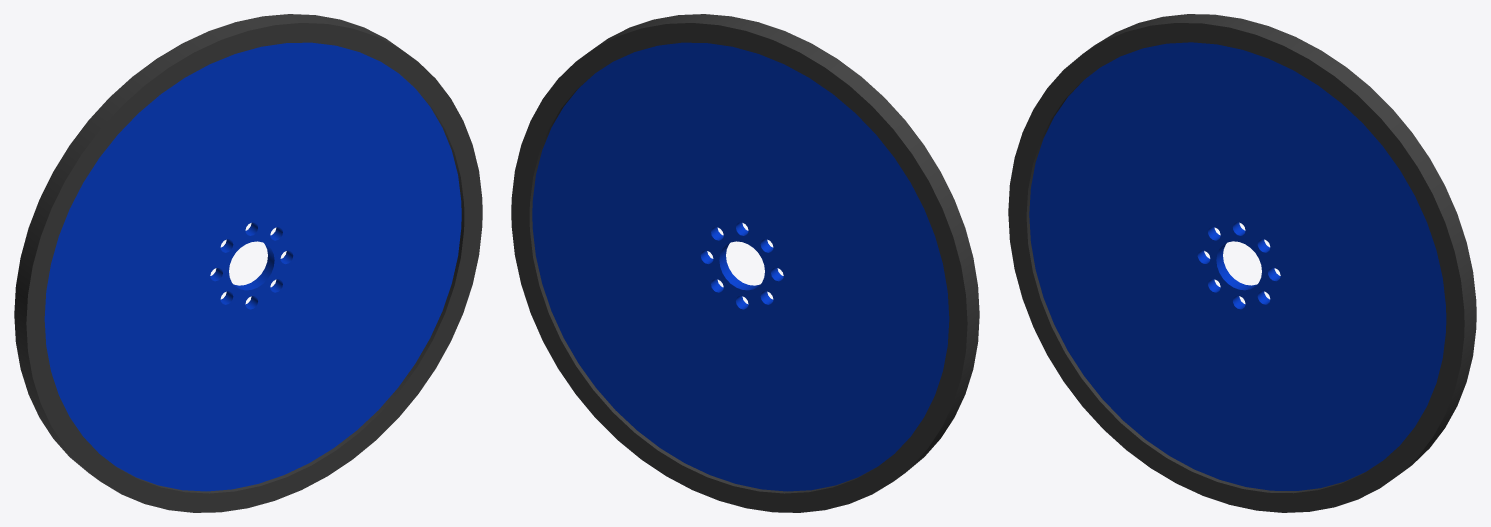
Rendered from ROB-12134.obj.
The picture shows the model from 3 angles, left to right: view 1: azimuth 30°, elevation 25°; view 2: azimuth 150°, elevation 25°; view 3: azimuth 330°, elevation 25°; orthographic projection.
Visible parts, largest first — view 1: mesh 2 Boss-Extrude1, mesh 1 RO; view 2: mesh 2 Boss-Extrude1, mesh 1 RO; view 3: mesh 2 Boss-Extrude1, mesh 1 RO.
Part boxes in pixels (x1,y1,x2,y2): mesh 2 Boss-Extrude1: [44, 42, 461, 491]; mesh 1 RO: [14, 14, 482, 512]; mesh 2 Boss-Extrude1: [532, 42, 949, 491]; mesh 1 RO: [511, 14, 979, 512]; mesh 2 Boss-Extrude1: [1029, 42, 1446, 490]; mesh 1 RO: [1008, 14, 1476, 512].
Bounding box in the file's own units: 0.127 × 0.1269 × 0.00584.
